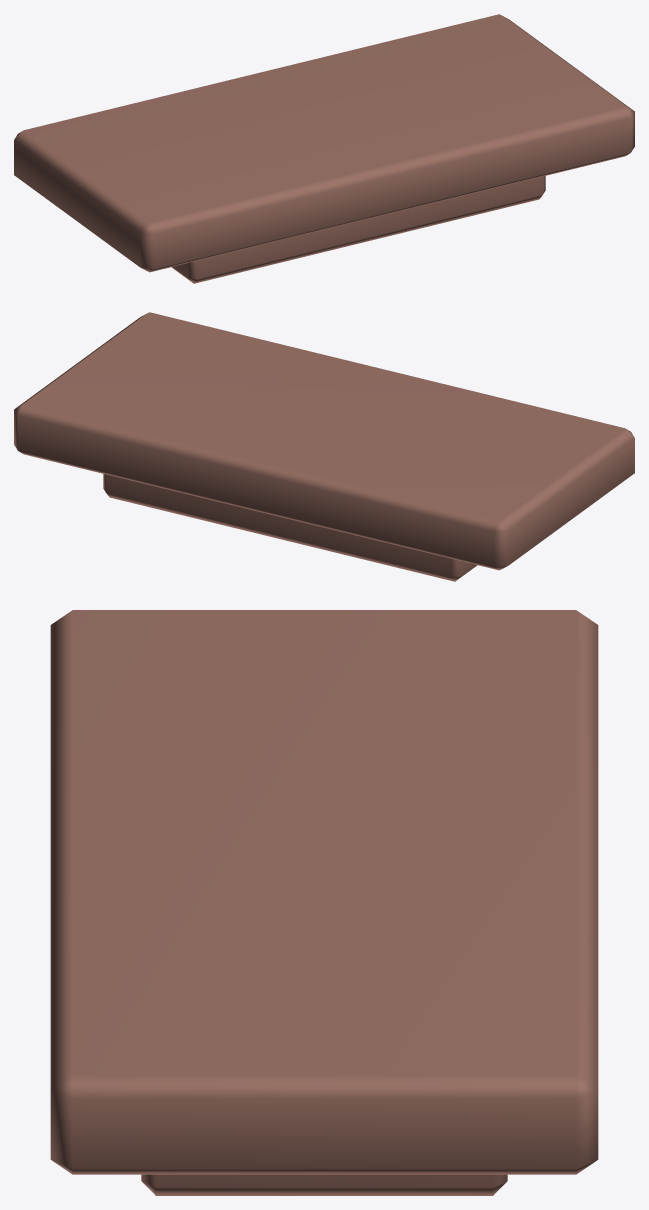
The model's file is Store_3_Board_1.glb.
3 views of the same model, one above another, from view 1: azimuth 30°, elevation 25°; view 2: azimuth 150°, elevation 25°; view 3: azimuth 270°, elevation 25° (orthographic). The views are drawn at different scales.
Visible parts, largest first — view 1: Store_3_Board_1; view 2: Store_3_Board_1; view 3: Store_3_Board_1.
Boxes of the visible parts, left/top/right/bottom form: Store_3_Board_1: left=14, top=14, right=634, bottom=283; Store_3_Board_1: left=14, top=312, right=634, bottom=581; Store_3_Board_1: left=50, top=610, right=598, bottom=1195.
Bounding box in the file's own units: 1.04 × 0.186 × 0.499.
1 material, 1 textured.
